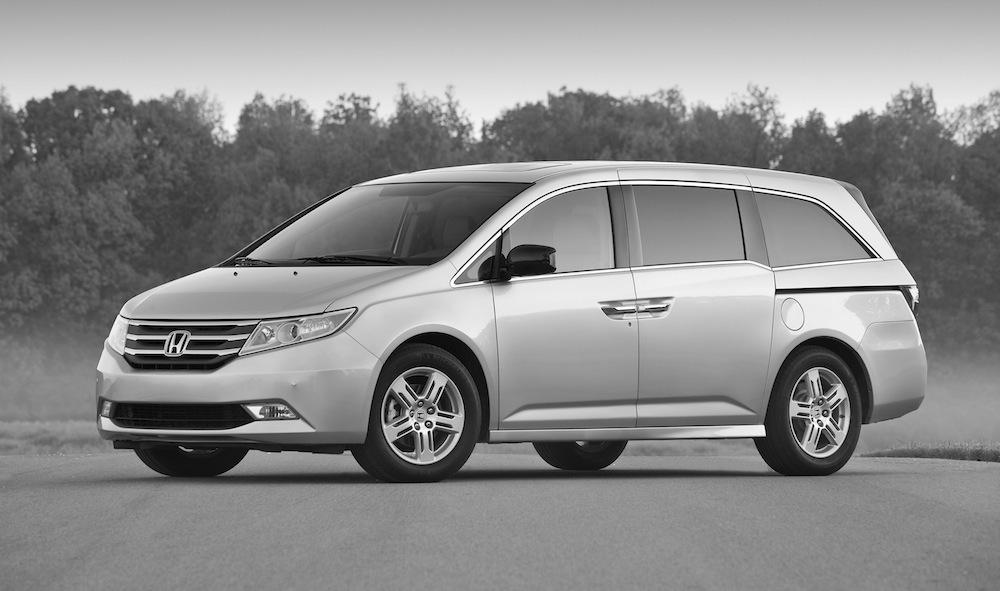car: (91, 158, 936, 483)
